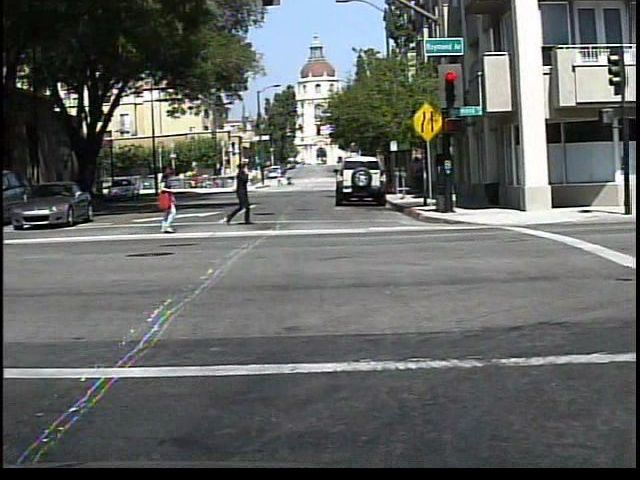person: (147, 160, 186, 236), (219, 158, 259, 230), (275, 170, 283, 191), (285, 171, 292, 189)
